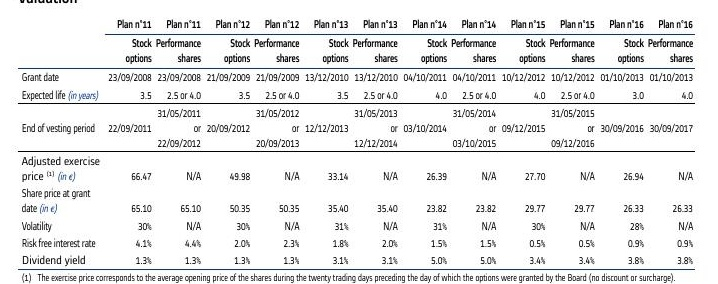table: (0, 0, 718, 284)
